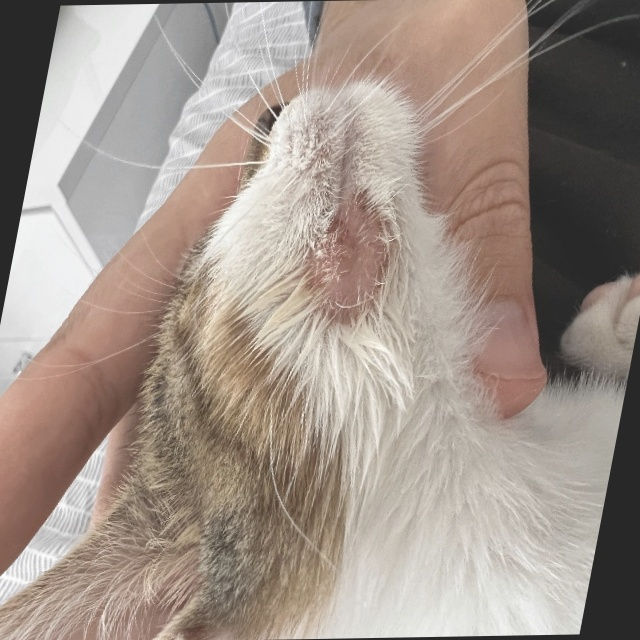ringworm: (295, 208, 403, 337)
